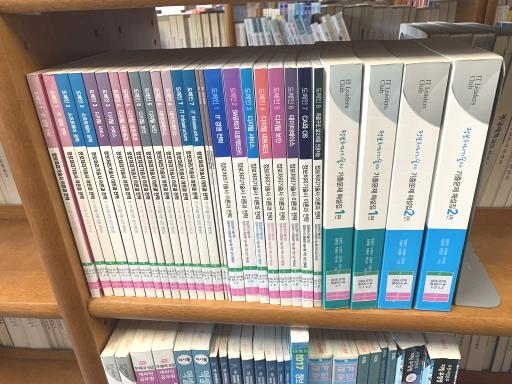book-spine: (416, 58, 502, 311), (378, 62, 451, 309), (26, 73, 101, 299), (42, 74, 114, 296), (54, 74, 124, 296), (67, 73, 135, 296), (83, 73, 145, 297), (95, 72, 155, 297), (351, 63, 403, 309), (108, 73, 164, 298), (118, 72, 172, 298), (128, 71, 181, 299), (139, 72, 189, 299), (151, 71, 197, 299), (171, 70, 215, 300), (161, 70, 205, 299), (203, 69, 246, 301), (182, 69, 225, 300), (325, 63, 362, 309), (222, 67, 259, 302), (195, 69, 228, 300), (199, 69, 232, 300), (241, 68, 270, 304), (253, 68, 280, 304), (269, 68, 292, 306), (284, 68, 302, 306), (298, 67, 314, 307), (314, 68, 324, 307)
